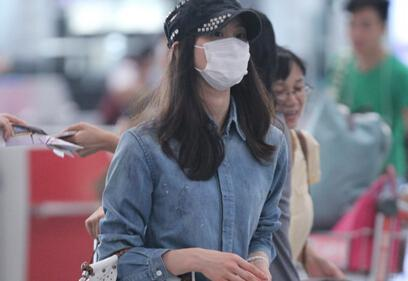NONE: (270, 80, 307, 128)
OK: (189, 21, 255, 87)
